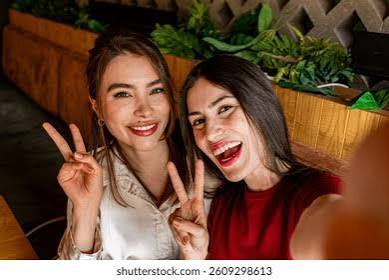peace_sign: (43, 117, 107, 210), (163, 149, 213, 253)
